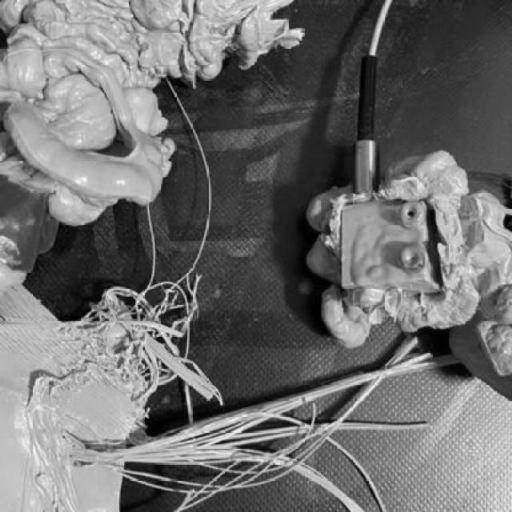spaghetti_and_stringing: (65, 410, 435, 510), (66, 269, 226, 408)
